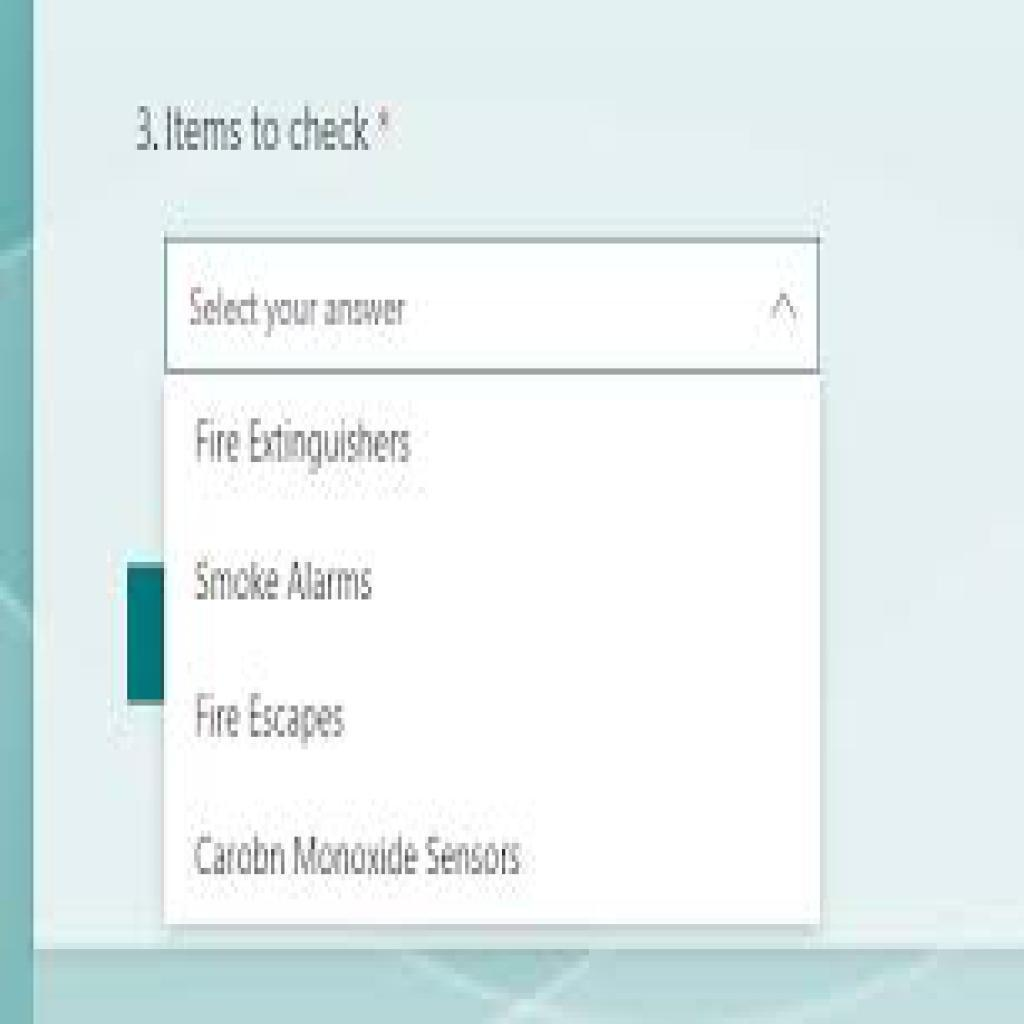dropdown: (166, 243, 821, 371)
